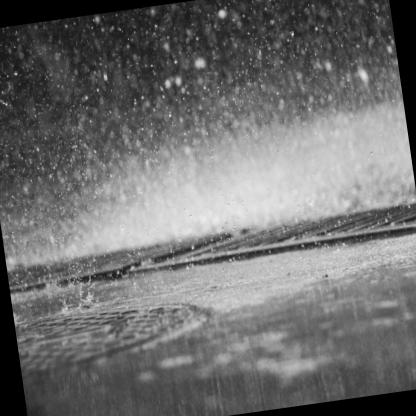manholes: (11, 270, 220, 383)
